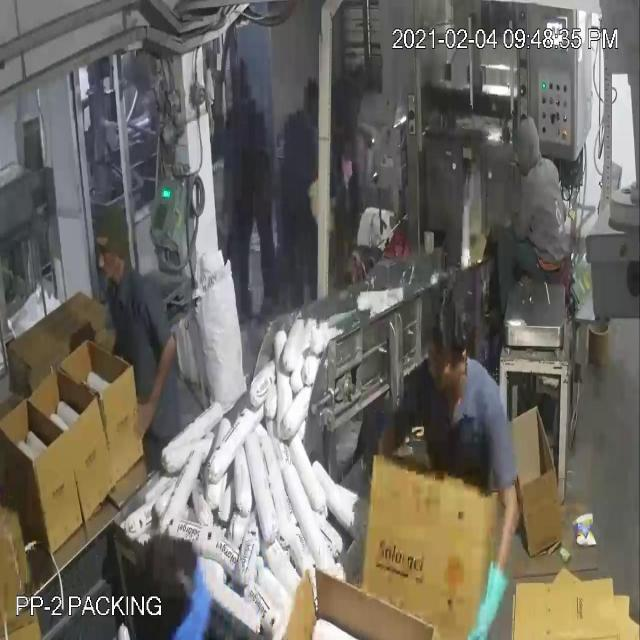No_Gloves: (49, 93, 488, 594)
